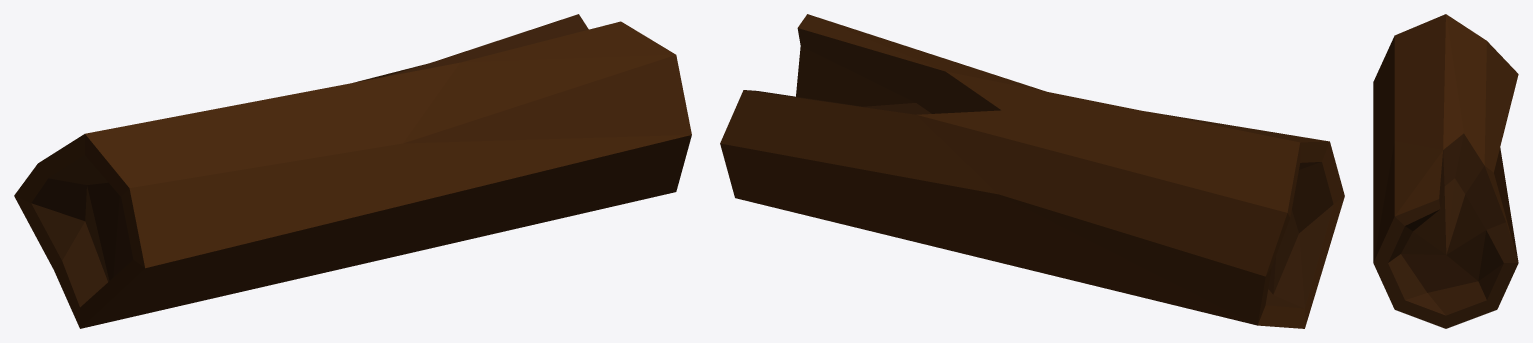
The model's file is log_02.fbx.
3 views of the same model, side by side, from view 1: azimuth 30°, elevation 25°; view 2: azimuth 150°, elevation 25°; view 3: azimuth 270°, elevation 25° (orthographic). The views are drawn at different scales.
Parts seen in each view (by area): view 1: log_2; view 2: log_2; view 3: log_2.
Part boxes in pixels (x1,y1,x2,y2): log_2: (14,14,691,328); log_2: (720,14,1344,328); log_2: (1373,14,1518,328).
Size of the model in its own units: 0.7203 by 0.234 by 0.234.
